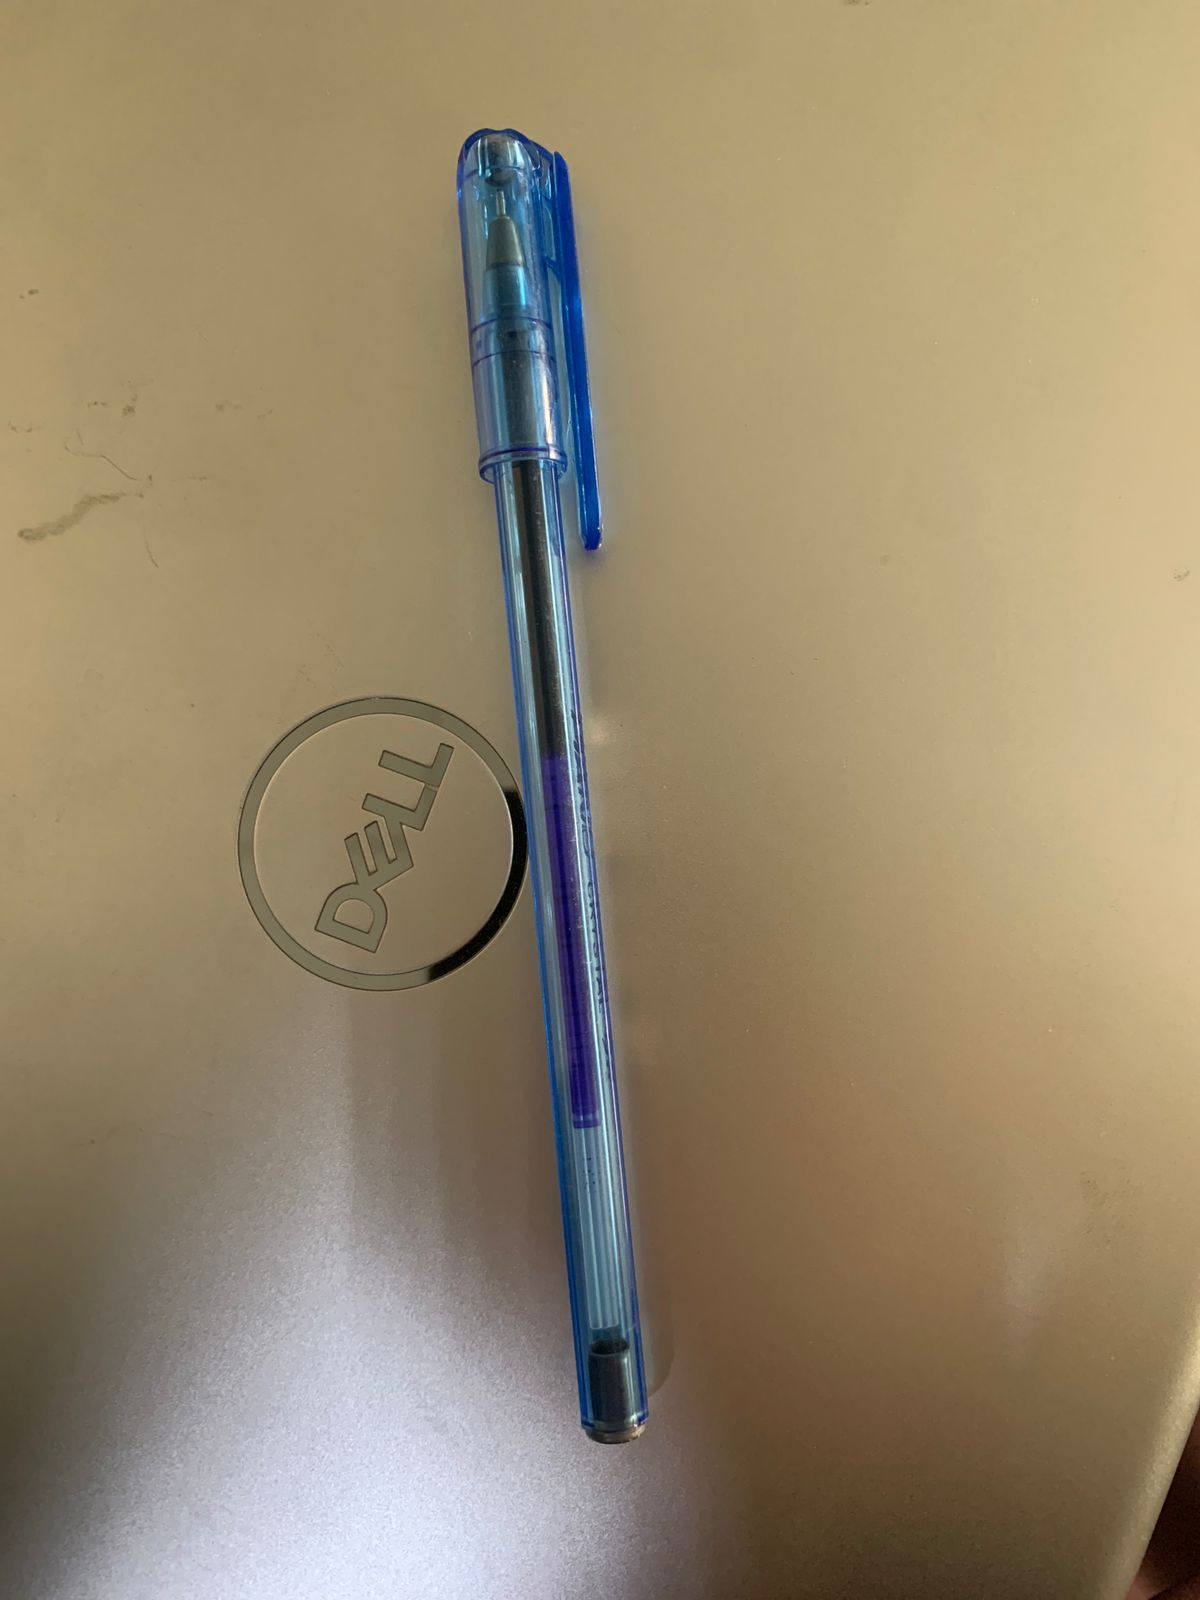pen: (142, 89, 1200, 1587)
